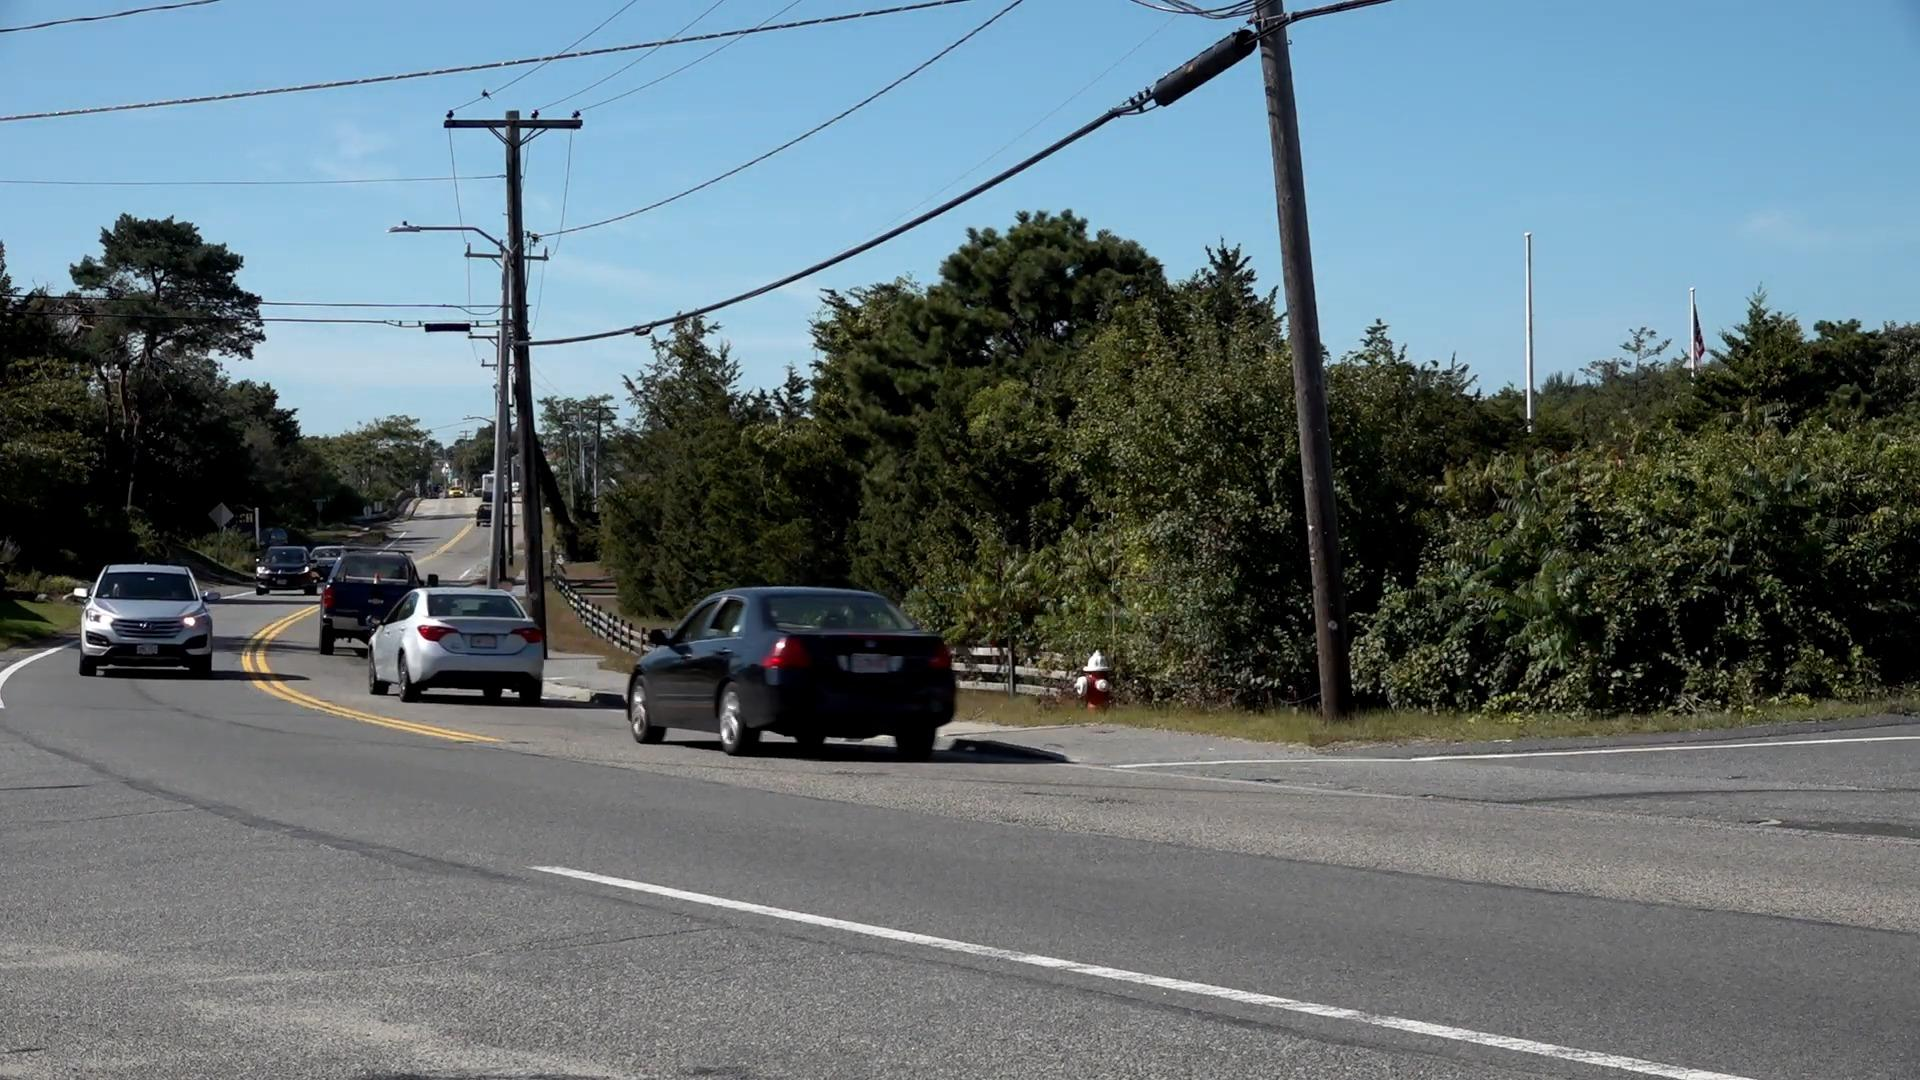sedans: (624, 584, 957, 757), (368, 587, 545, 708)
suv: (75, 556, 216, 678)
